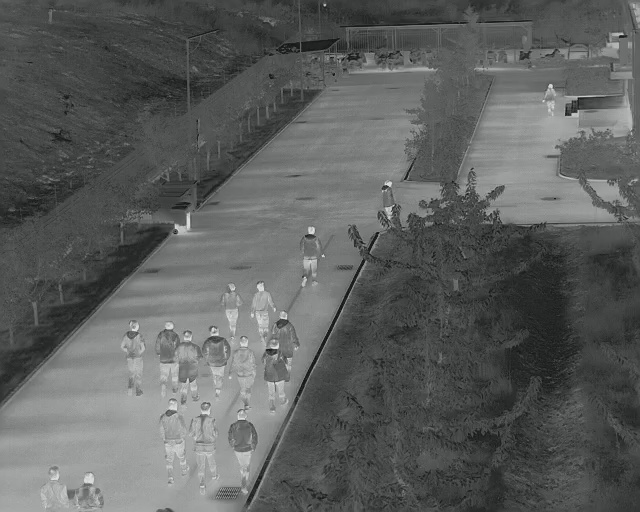person: (159, 398, 192, 482), (193, 402, 223, 491), (228, 409, 259, 492), (122, 320, 148, 396), (206, 324, 230, 399), (261, 341, 287, 410), (155, 320, 178, 392), (234, 337, 256, 407), (301, 225, 326, 286), (179, 328, 198, 396), (251, 278, 275, 329), (73, 471, 105, 509), (41, 467, 68, 510), (273, 310, 298, 347), (223, 283, 241, 327), (379, 178, 398, 213), (541, 82, 558, 118)
